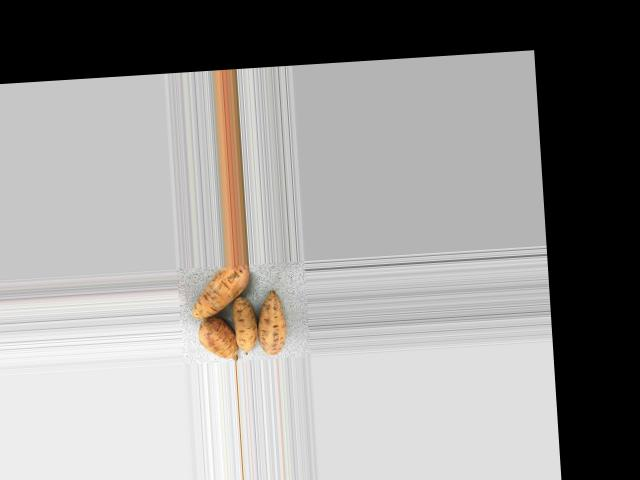sweet_potato: (183, 263, 258, 319)
